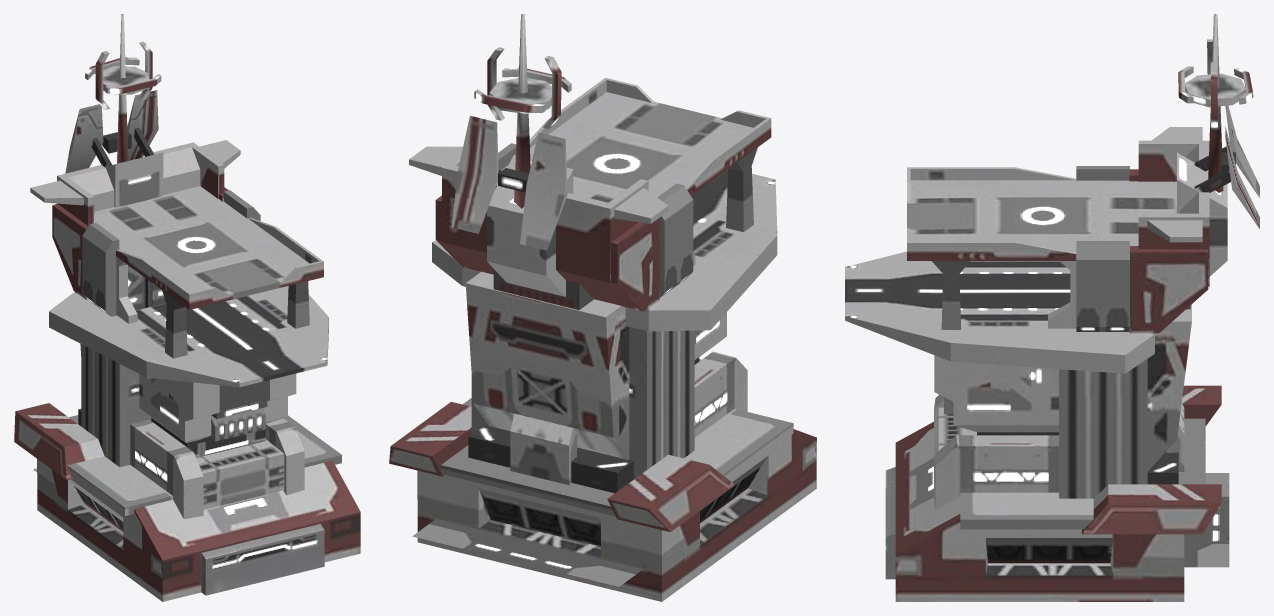
The picture shows the model from 3 angles, left to right: view 1: azimuth 30°, elevation 25°; view 2: azimuth 150°, elevation 25°; view 3: azimuth 270°, elevation 25°; orthographic projection. The views are drawn at different scales.
Parts seen in each view (by area): view 1: battle-base-lod1; view 2: battle-base-lod1; view 3: battle-base-lod1.
Part boxes in pixels (bbox=[...]): battle-base-lod1: bbox=[14, 14, 360, 601]; battle-base-lod1: bbox=[389, 14, 816, 601]; battle-base-lod1: bbox=[845, 14, 1259, 601].
Bounding box in the file's own units: 7.12 × 13.78 × 9.74.
1 material, 1 textured.
